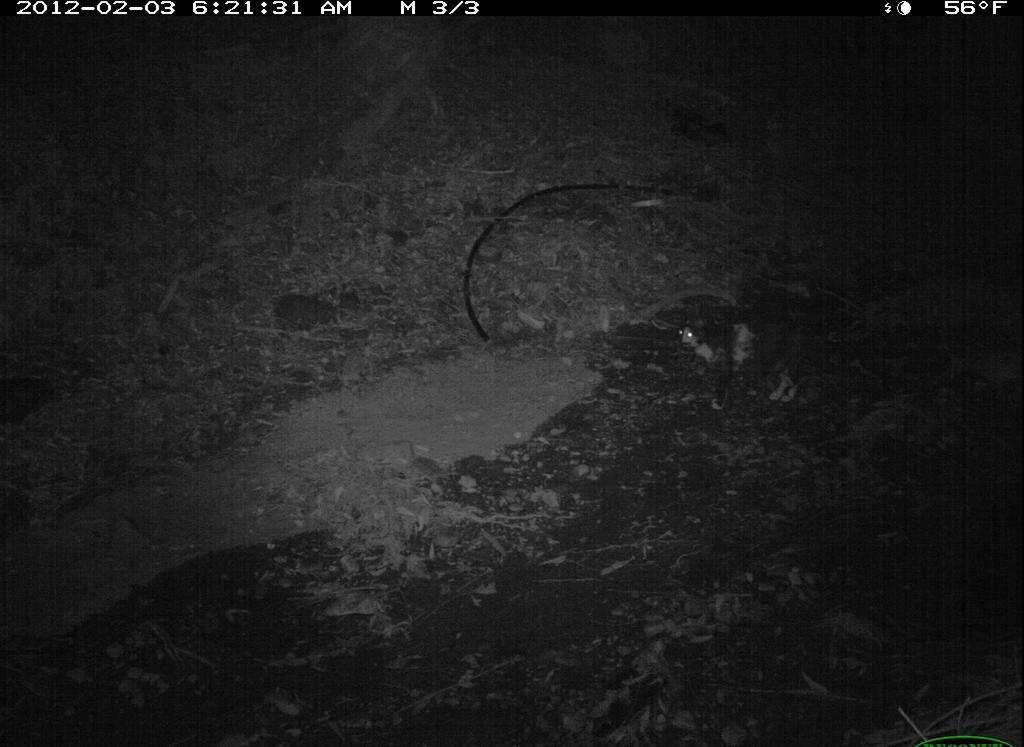cat: (667, 296, 844, 419)
